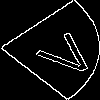V: (25, 25, 100, 81)
